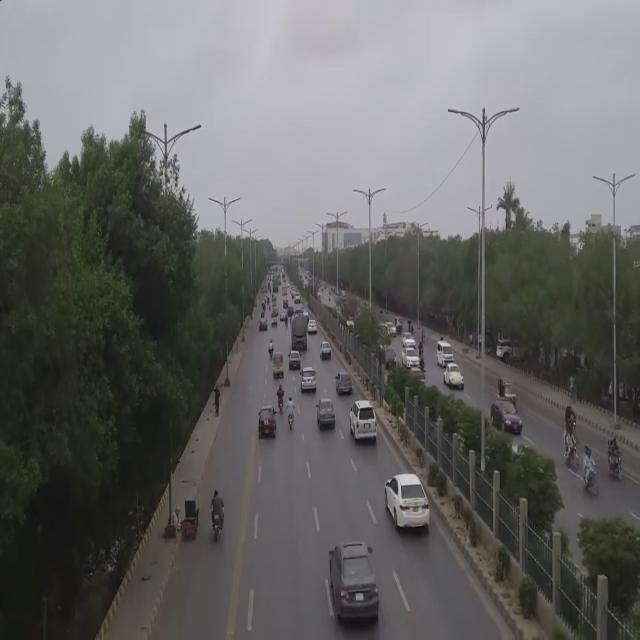car: (327, 541, 381, 623), (384, 475, 430, 532), (349, 400, 377, 446), (490, 401, 522, 435), (258, 407, 277, 438), (316, 400, 334, 430), (444, 365, 464, 390), (436, 344, 454, 368), (335, 374, 353, 397), (300, 369, 316, 392), (289, 353, 302, 372), (318, 342, 330, 358)
motorbike: (582, 442, 601, 496), (210, 490, 228, 540), (606, 437, 626, 482), (562, 423, 581, 470), (564, 405, 580, 434), (286, 395, 296, 433), (276, 382, 286, 414), (268, 337, 276, 360)
truck: (289, 312, 309, 350)
